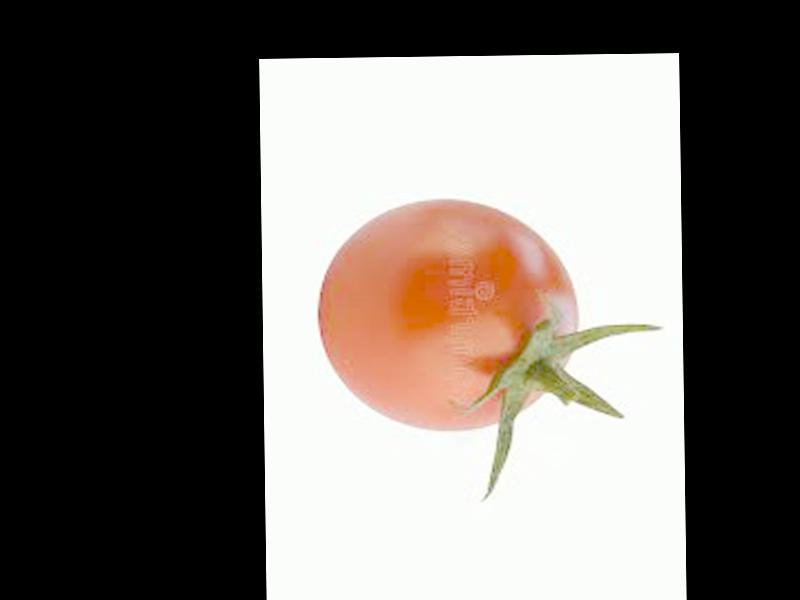Tomato: (315, 196, 578, 430)
